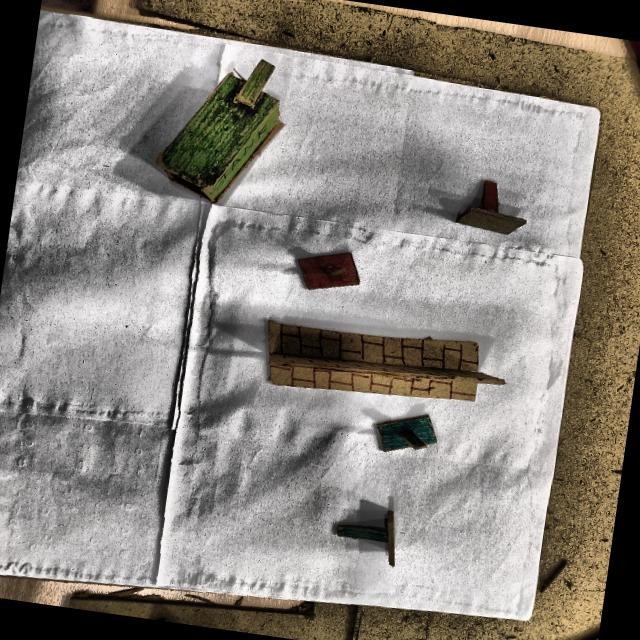Dead soldier -enemy-: (454, 179, 531, 240)
Dead soldier -frd-: (330, 500, 405, 567)
Tank: (152, 60, 284, 206)
Wall: (263, 321, 506, 404)
enemy: (294, 251, 366, 293)
friend: (371, 415, 442, 455)
